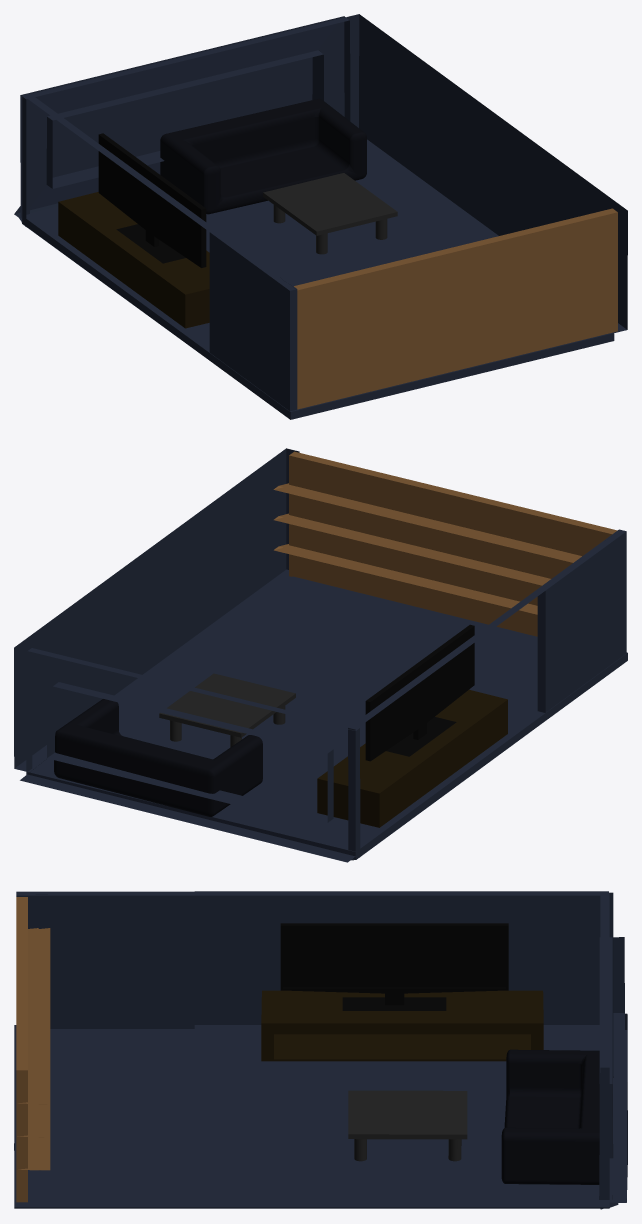
Rendered from room9.obj.
3 views of the same model, one above another, from view 1: azimuth 30°, elevation 25°; view 2: azimuth 150°, elevation 25°; view 3: azimuth 270°, elevation 25° (orthographic). The views are drawn at different scales.
Visible parts, largest first — view 1: room_Plane, Cube_Cube.001, soft_Plane.003, Plane.001_Plane.004, Plane.002_Plane.005, Plane_Plane.001, chair_Circle; view 2: room_Plane, Cube_Cube.001, soft_Plane.003, Plane.001_Plane.004, Plane.002_Plane.005, Plane_Plane.001; view 3: room_Plane, Plane.001_Plane.004, Plane.002_Plane.005, soft_Plane.003, Cube_Cube.001, Plane_Plane.001, chair_Circle.
Boxes of the visible parts, x1,y1,x2,y2 form: room_Plane: (14,14,627,419); Cube_Cube.001: (294,208,617,409); soft_Plane.003: (160,98,366,214); Plane.001_Plane.004: (58,192,209,328); Plane.002_Plane.005: (98,133,206,267); Plane_Plane.001: (263,173,397,235); chair_Circle: (273,205,387,254); room_Plane: (14,448,627,862); Cube_Cube.001: (273,451,617,636); soft_Plane.003: (54,699,262,816); Plane.001_Plane.004: (317,689,507,827); Plane.002_Plane.005: (365,624,474,761); Plane_Plane.001: (159,673,295,737); room_Plane: (14,891,627,1209); Plane.001_Plane.004: (261,990,543,1061); Plane.002_Plane.005: (280,923,508,1010); soft_Plane.003: (501,1049,613,1184); Cube_Cube.001: (16,897,50,1202); Plane_Plane.001: (348,1090,467,1139); chair_Circle: (354,1139,461,1161).
Bounding box in the file's own units: 8.34 × 3.09 × 11.85.
